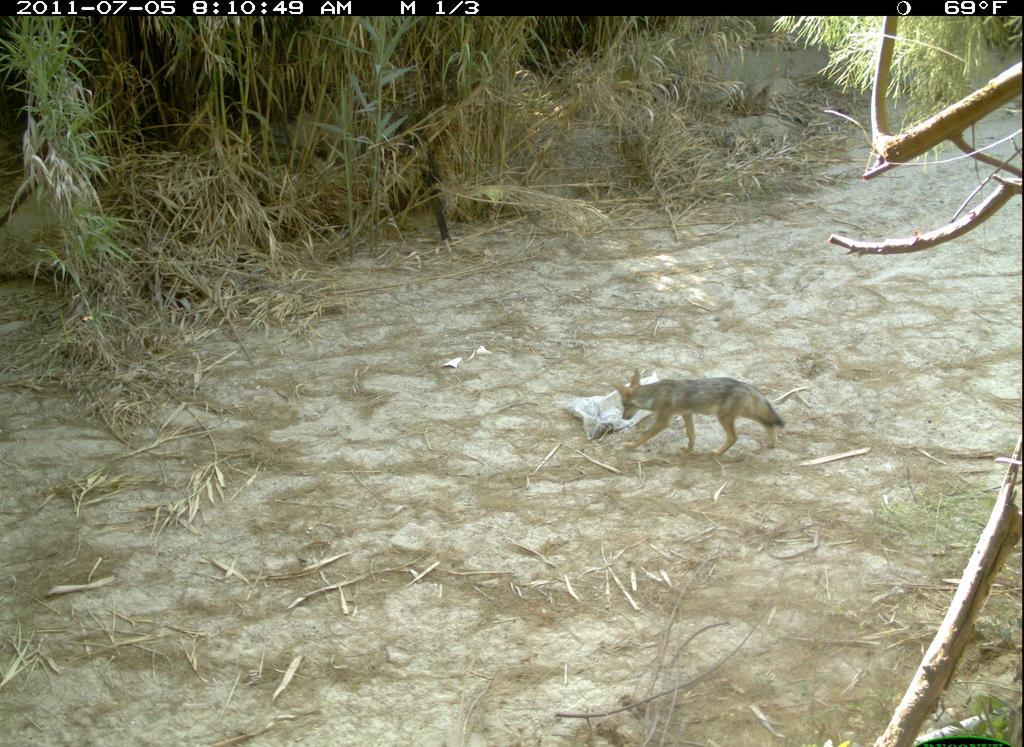coyote: (608, 359, 792, 479)
